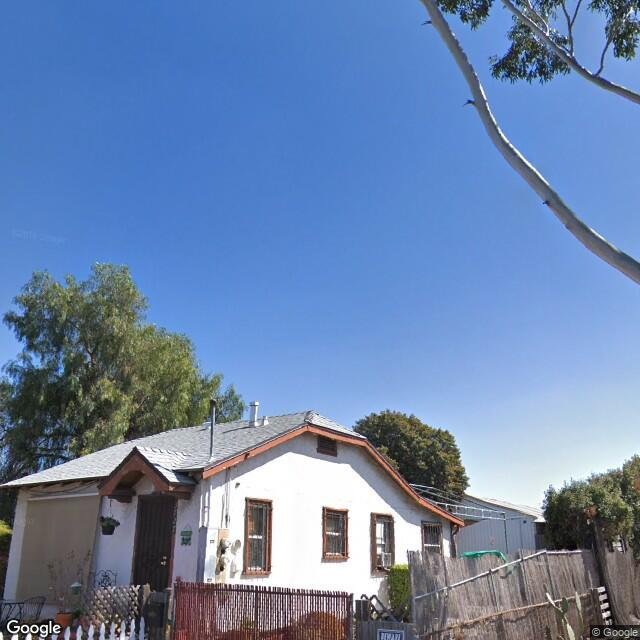window: (238, 487, 282, 576), (323, 503, 357, 572), (369, 505, 398, 575)
